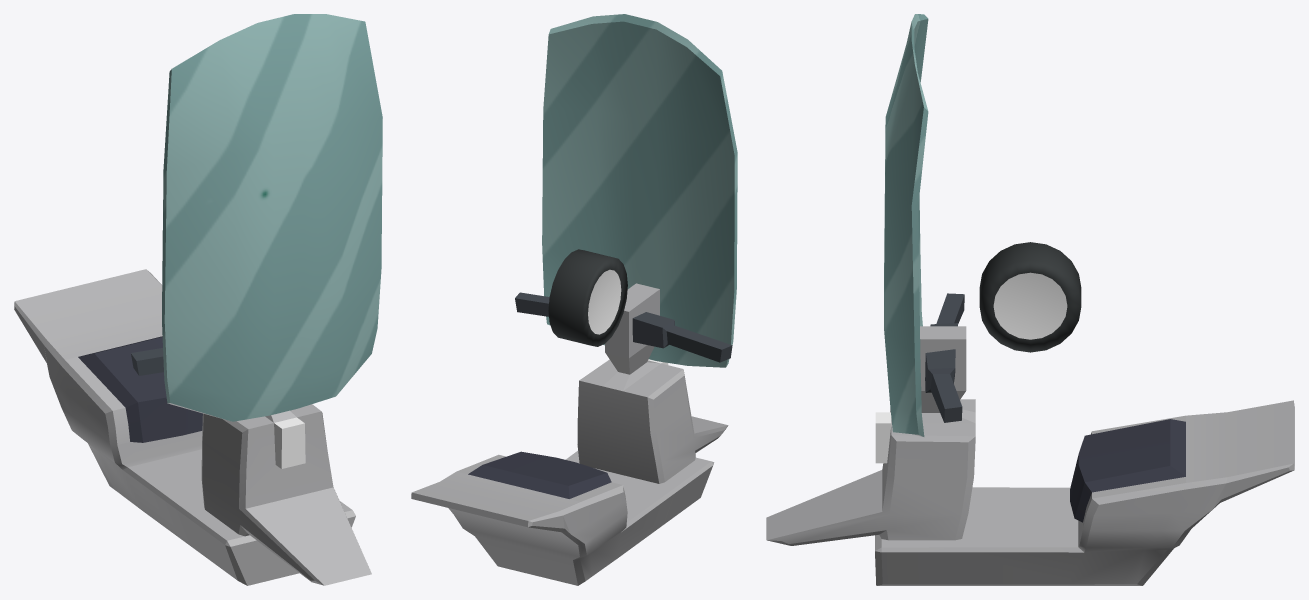
The model's file is scooter 2 silver.fbx.
3 views of the same model, side by side, from view 1: azimuth 30°, elevation 25°; view 2: azimuth 150°, elevation 25°; view 3: azimuth 270°, elevation 25° (orthographic). The views are drawn at different scales.
Parts seen in each view (by area): view 1: scooter_2_silver; view 2: scooter_2_silver, scooter_2_silver_wheel; view 3: scooter_2_silver, scooter_2_silver_wheel.
Boxes of the visible parts, left/top/right/bottom form: scooter_2_silver: left=14, top=14, right=382, bottom=585; scooter_2_silver: left=411, top=14, right=737, bottom=585; scooter_2_silver_wheel: left=548, top=249, right=627, bottom=346; scooter_2_silver: left=766, top=14, right=1294, bottom=585; scooter_2_silver_wheel: left=979, top=242, right=1081, bottom=352.
Size of the model in its own units: 55.02 by 118 by 106.
